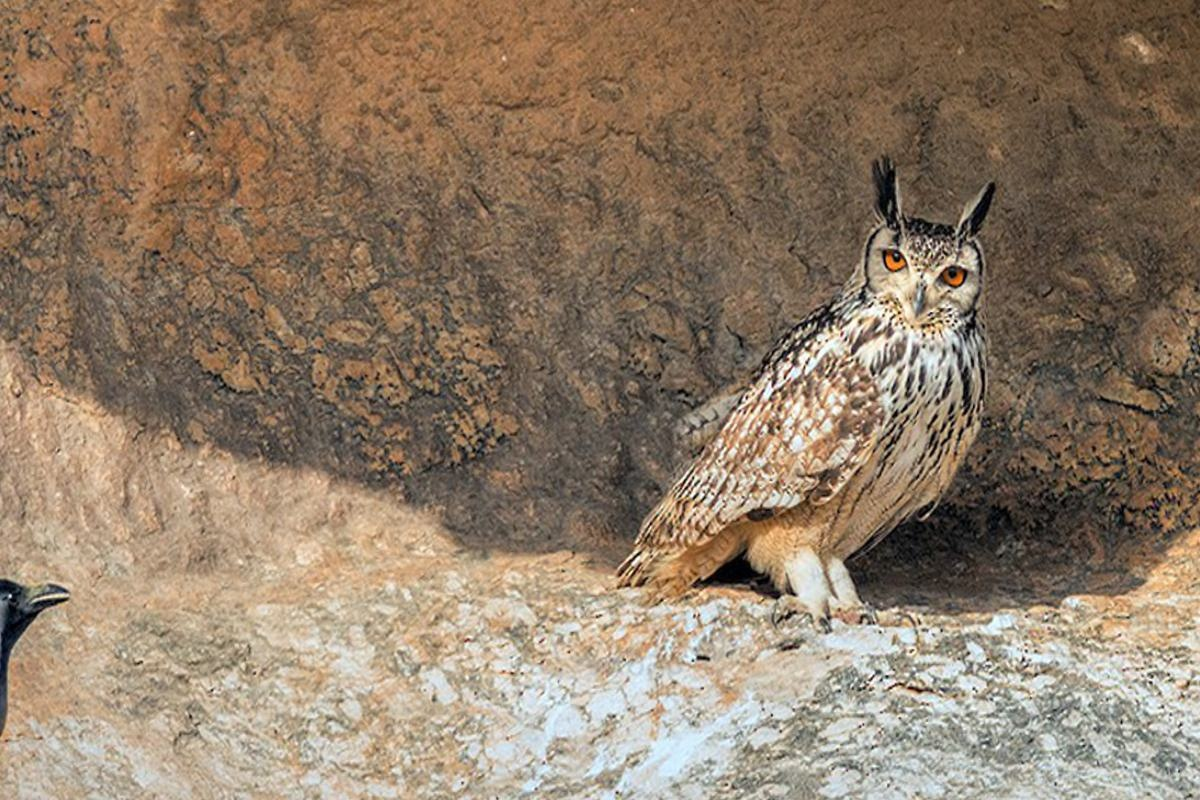crow: (1, 576, 81, 641)
